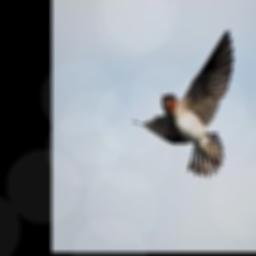Swallow: (132, 27, 236, 181)
